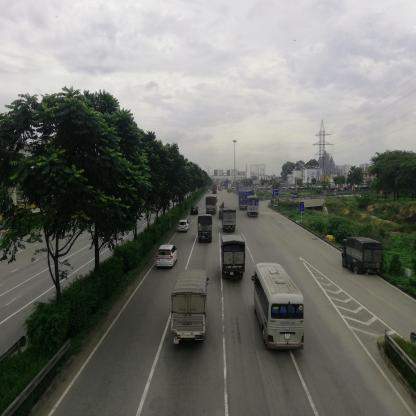car: (155, 246, 178, 268), (177, 221, 191, 231), (191, 205, 200, 215)
container: (240, 192, 260, 203)
truck: (256, 261, 305, 352), (178, 272, 208, 341), (344, 237, 384, 276), (223, 237, 247, 281), (198, 217, 213, 245), (222, 211, 237, 233), (207, 196, 218, 217), (248, 198, 259, 217), (324, 189, 337, 197)
